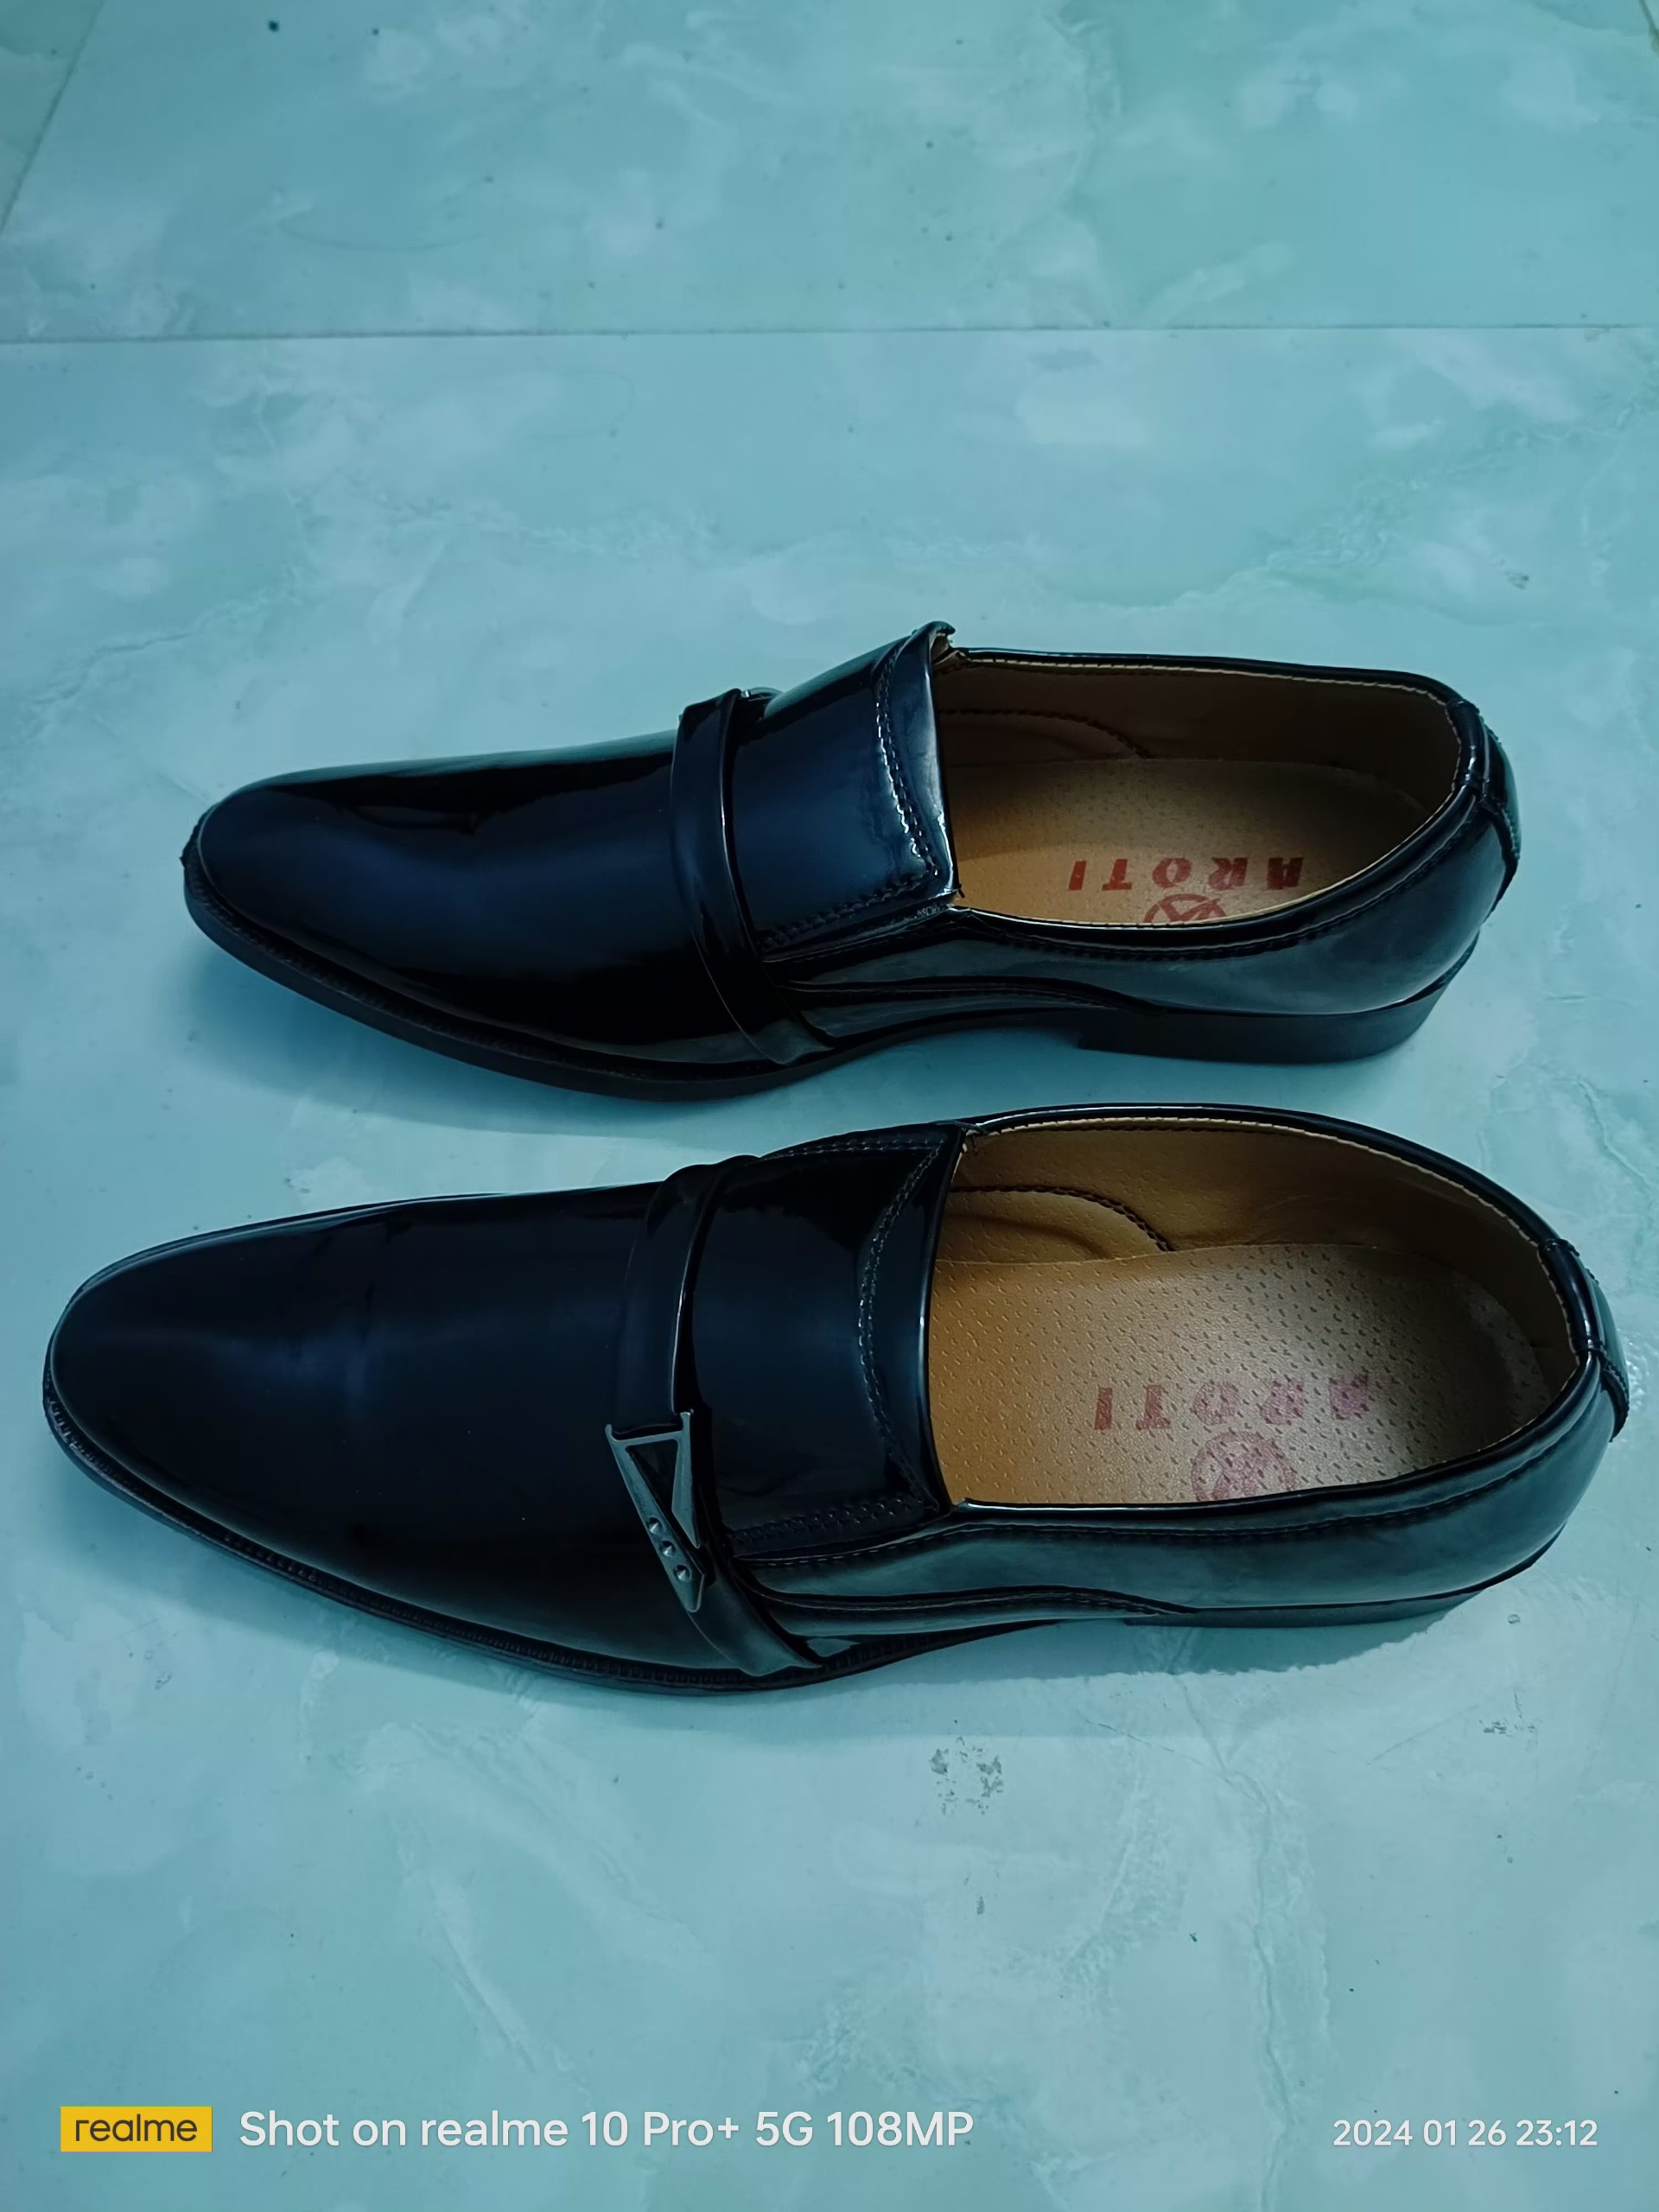loafers: (35, 1090, 1624, 1688), (174, 618, 1511, 1109)
